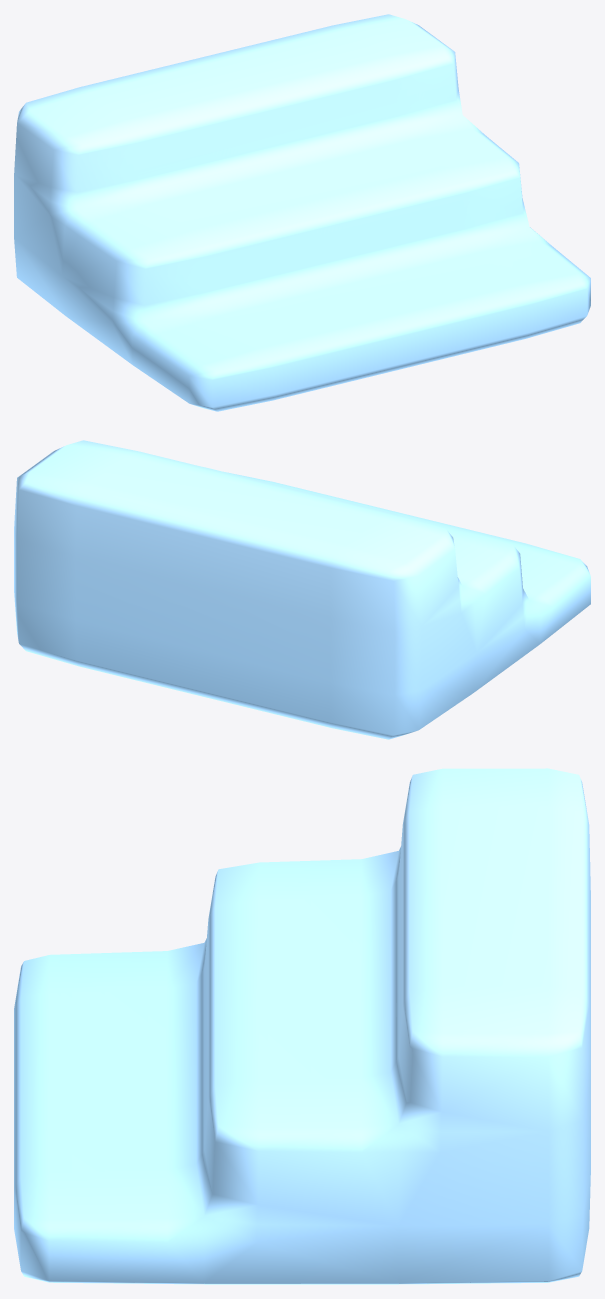
Rendered from stairs_001.glb.
3 renders of one model, top to bottom at view 1: azimuth 30°, elevation 25°; view 2: azimuth 150°, elevation 25°; view 3: azimuth 270°, elevation 25°, orthographic. The views are drawn at different scales.
Visible parts, largest first — view 1: stairs_001; view 2: stairs_001; view 3: stairs_001.
Part boxes in pixels (<box>): stairs_001: <box>14,14,590,411</box>; stairs_001: <box>14,440,590,739</box>; stairs_001: <box>14,768,590,1284</box>.
Bounding box in the file's own units: 2.94 × 1.21 × 2.45.
1 material, 1 textured.
